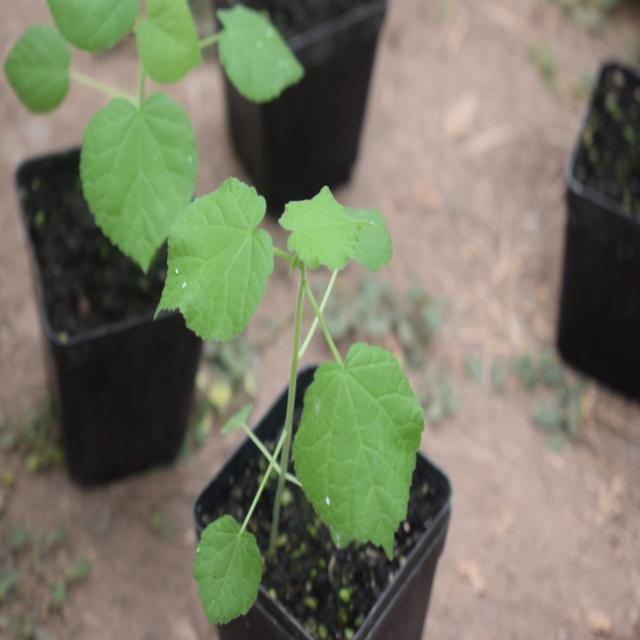abutilon theophrasti: (138, 154, 422, 550)
